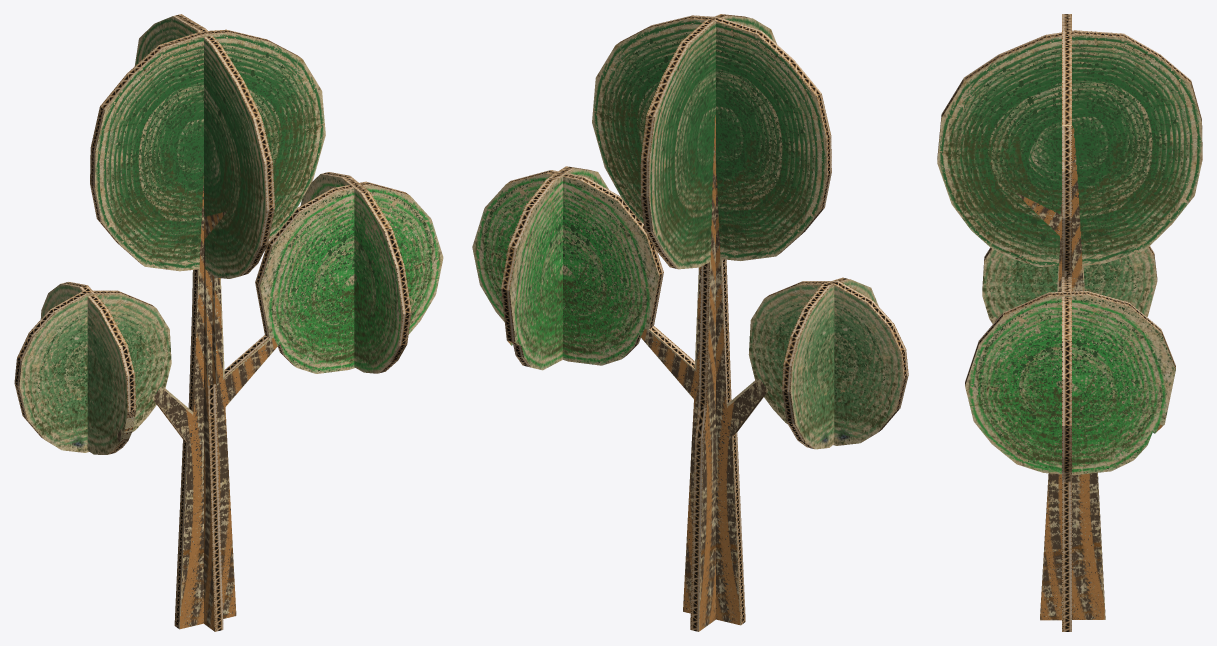
Rendered from Tree_002.fbx.
3 renders of one model, left to right at view 1: azimuth 30°, elevation 25°; view 2: azimuth 150°, elevation 25°; view 3: azimuth 270°, elevation 25°, orthographic. The views are drawn at different scales.
Visible parts, largest first — view 1: Tree_02.001; view 2: Tree_02.001; view 3: Tree_02.001.
Part boxes in pixels (x1,y1,x2,y2): Tree_02.001: (14,14,443,631); Tree_02.001: (472,14,908,631); Tree_02.001: (937,14,1202,631).
Size of the model in its own units: 0.7198 by 0.9541 by 0.3919.
